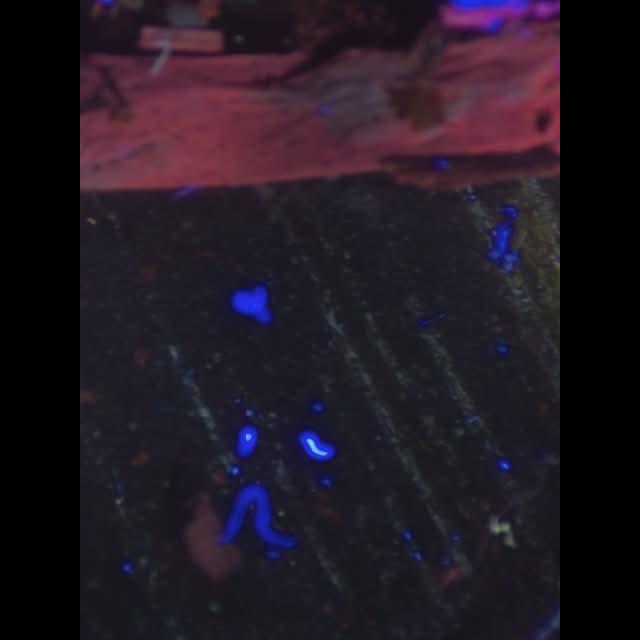Fibre: (488, 515, 516, 551)
